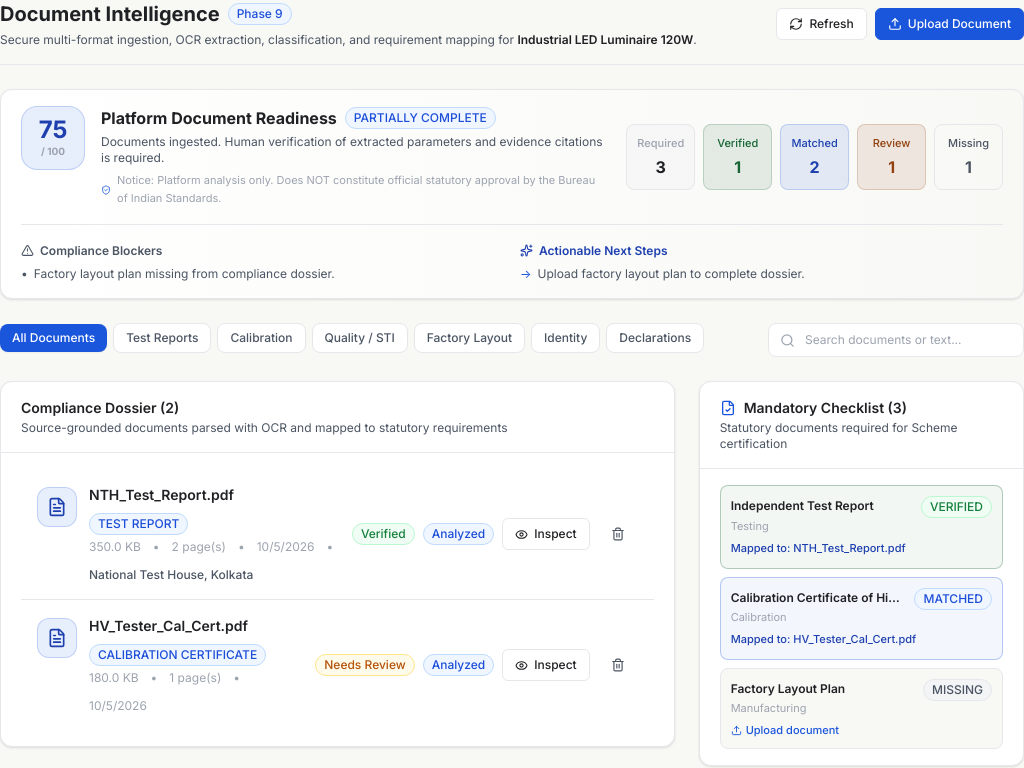
Test case: Phase 9 — Frontend Document Intelligence Tests › 2. Opens upload document modal when clicking "Upload Document"
Expected: the text "NTH_Test_Report.pdf" is shown, [89,485,234,505]
What coordinates should you click on to do the following:
click the button "Upload Document"
I would click on:
 (949, 24)
Its box is [875,8,1023,40].
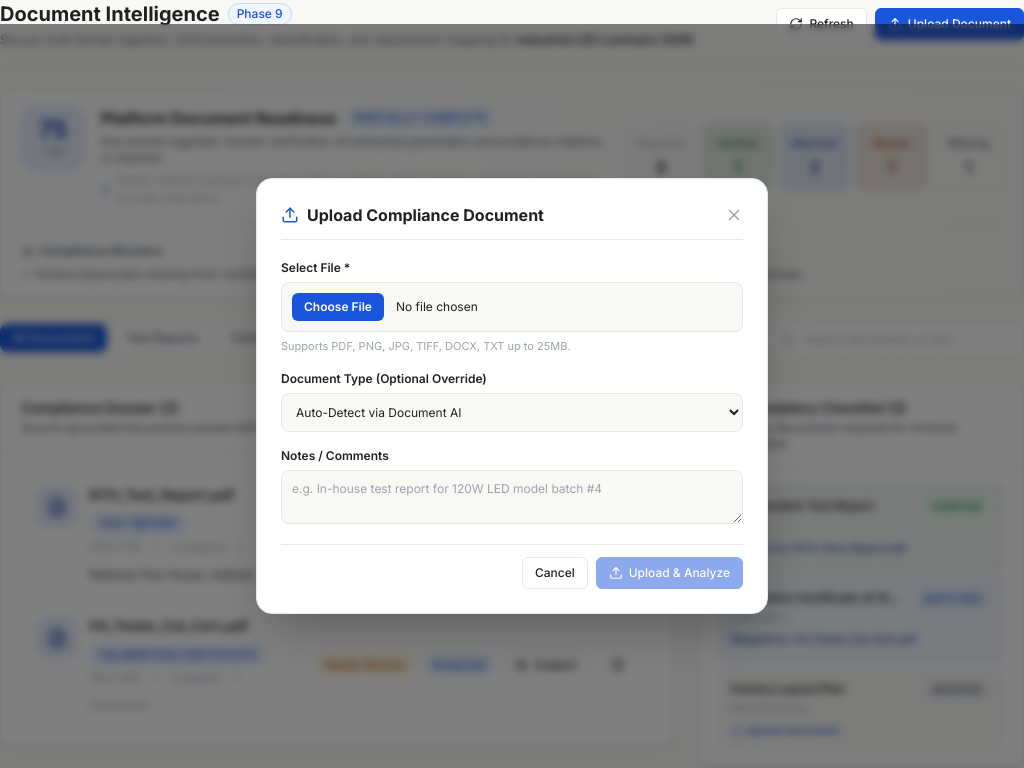
Expected: the heading "Upload Compliance Document" is shown, [307,203,544,227]
Expected: the text "Supports PDF, PNG, JPG, TIFF, DOCX, TXT up to 25MB." is shown, [281,339,571,353]
